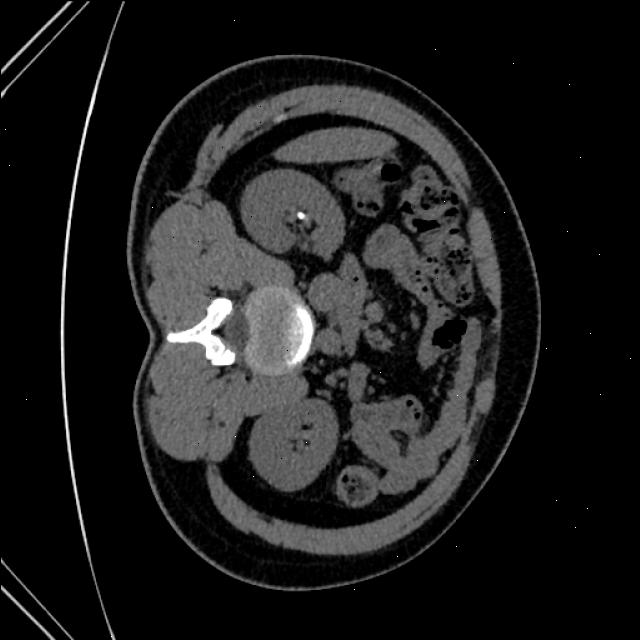kidneystone: (296, 211, 305, 220)
